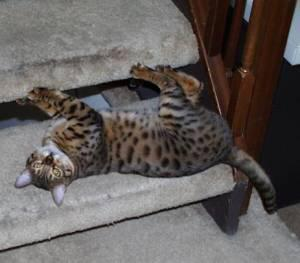cat: (14, 64, 278, 214)
